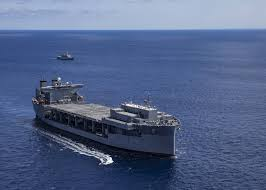Ship: (31, 83, 181, 156)
